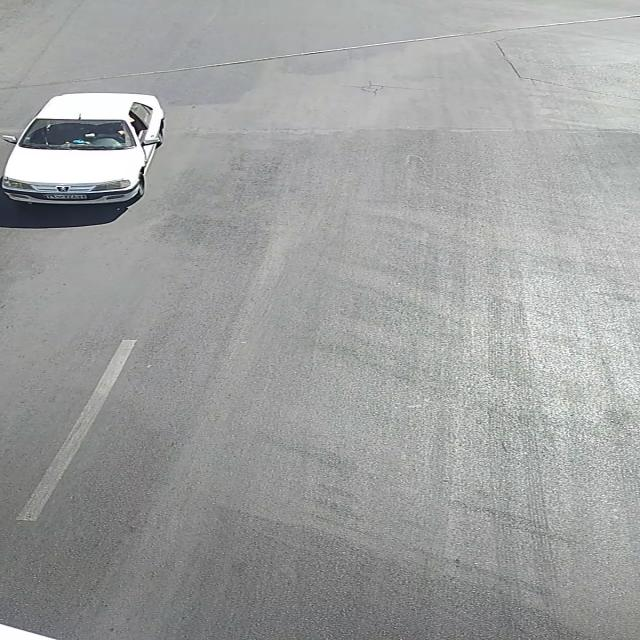car: (5, 92, 171, 204)
